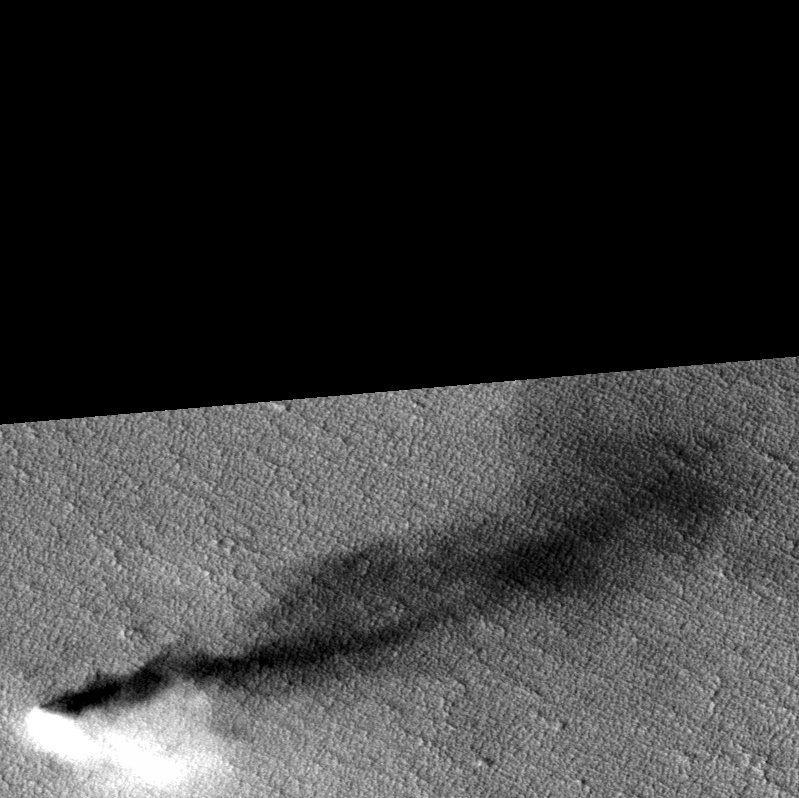dust_devil: (19, 423, 729, 794)
